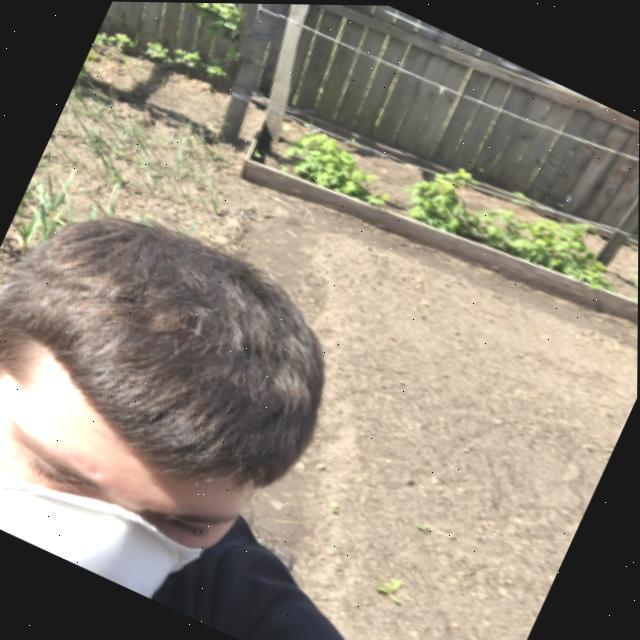Mask: (0, 308, 276, 620)
